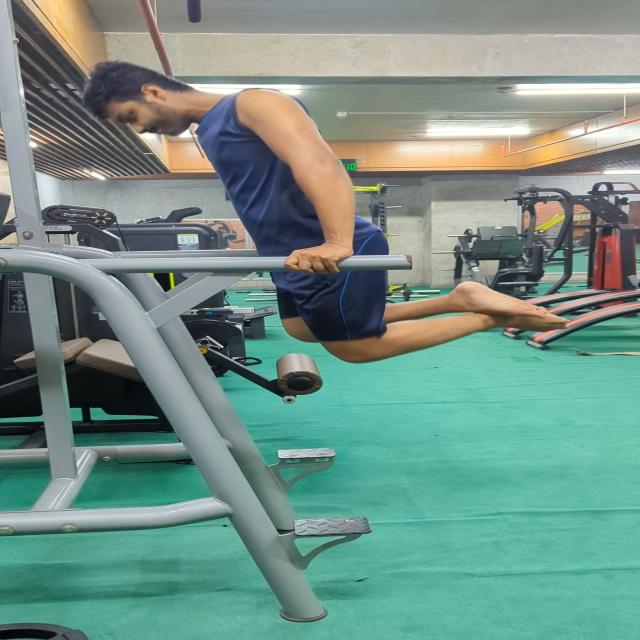Normal_Dips: (80, 51, 578, 372)
